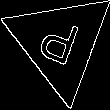P_S: (35, 12, 85, 73)
